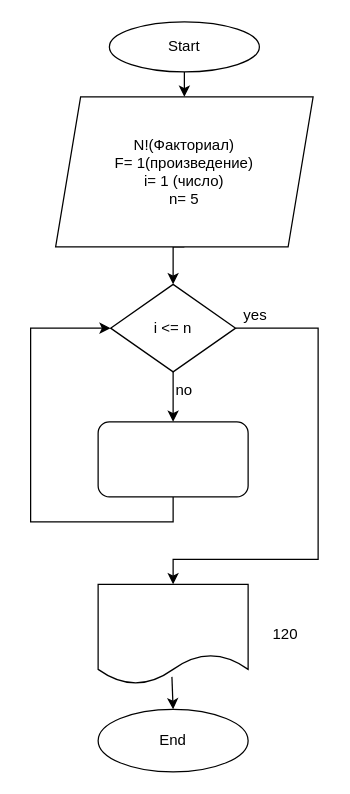
Image size: 350x794. Some labels were removed from this diagram. The shapes that lost their labels are listed below. From the top down, each one's centre as x and y in pixels, then its label:
the point at 172,459: F = F * i i = i +1
the point at 172,633: Print F
